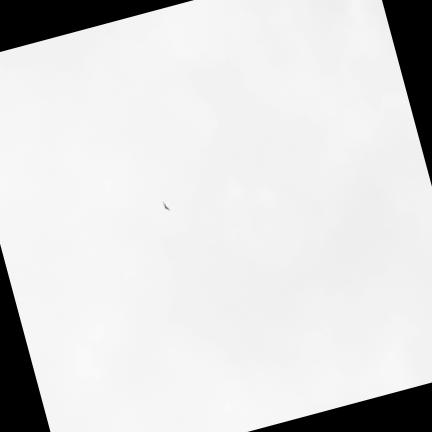Shahed: (162, 200, 169, 209)
